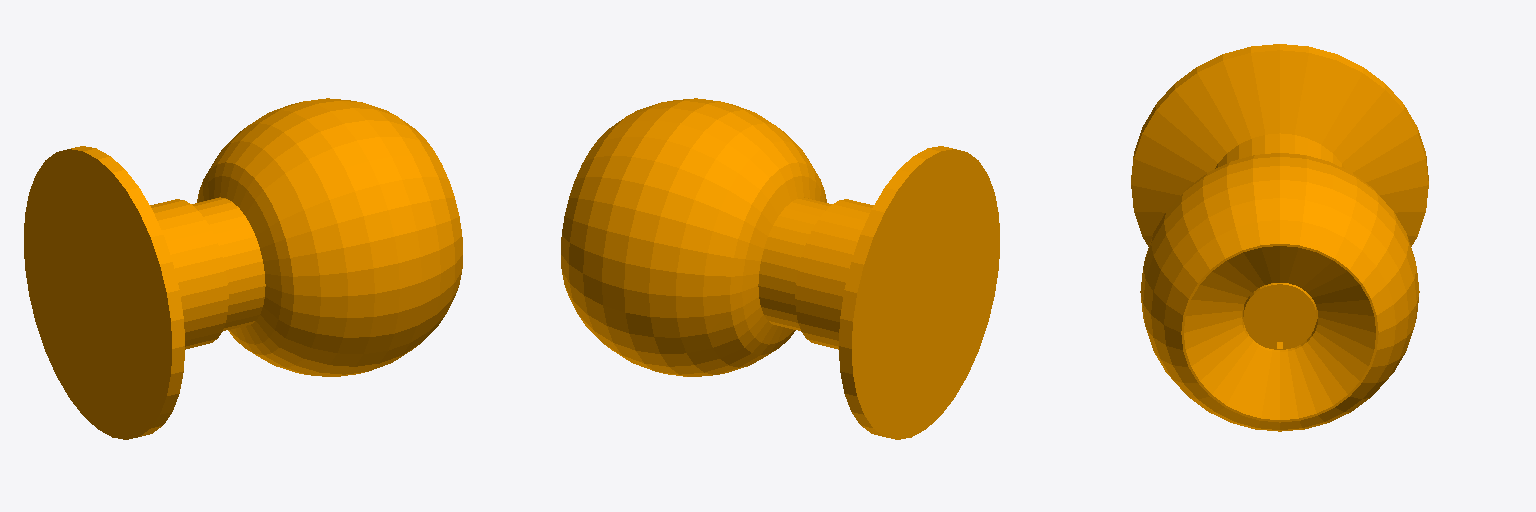
File: perilla.obj
3 renders of one model, left to right at view 1: azimuth 30°, elevation 25°; view 2: azimuth 150°, elevation 25°; view 3: azimuth 270°, elevation 25°, orthographic.
Parts seen in each view (by area): view 1: Perilla_Cylinder; view 2: Perilla_Cylinder; view 3: Perilla_Cylinder.
Part boxes in pixels (x1,y1,x2,y2): Perilla_Cylinder: (24, 98, 462, 439); Perilla_Cylinder: (561, 98, 999, 439); Perilla_Cylinder: (1131, 44, 1428, 431).
Bounding box in the file's own units: 0.49 × 0.4 × 0.4.